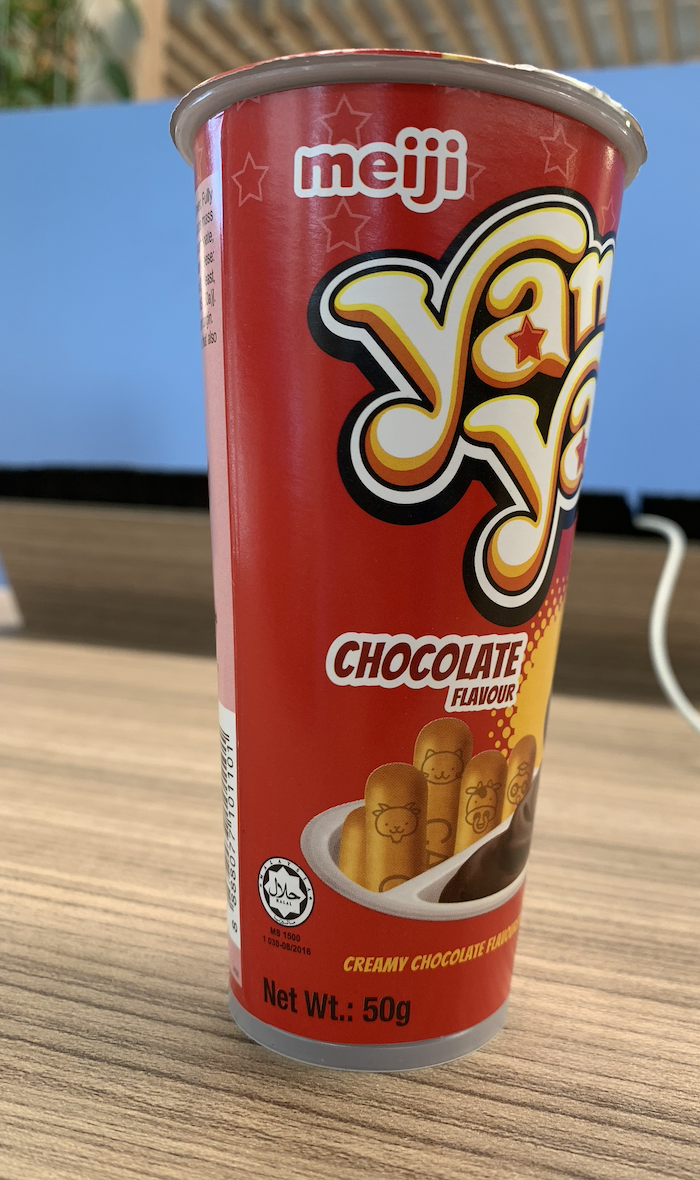cookies_1g-99g: (245, 84, 476, 1040)
